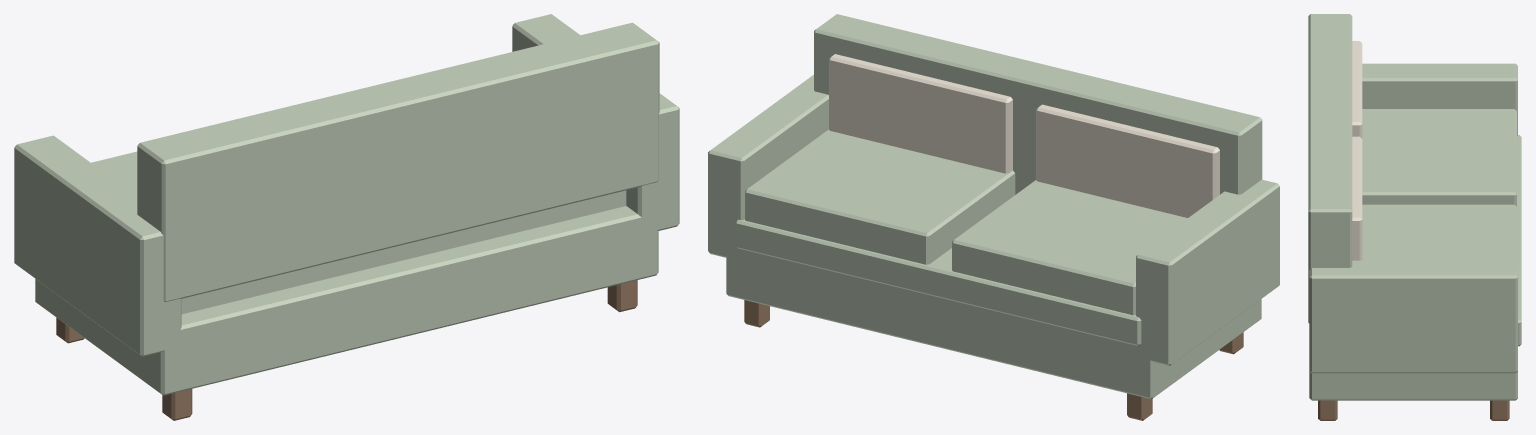
File: SM_Sofa_01.fbx
3 views of the same model, side by side, from view 1: azimuth 30°, elevation 25°; view 2: azimuth 150°, elevation 25°; view 3: azimuth 270°, elevation 25° (orthographic). The views are drawn at different scales.
Parts seen in each view (by area): view 1: Sofa_01; view 2: Sofa_01; view 3: Sofa_01.
Part boxes in pixels (x1,y1,x2,y2): Sofa_01: [14, 14, 679, 420]; Sofa_01: [708, 14, 1279, 420]; Sofa_01: [1308, 14, 1521, 420].
Size of the model in its own units: 206 by 98 by 87.
